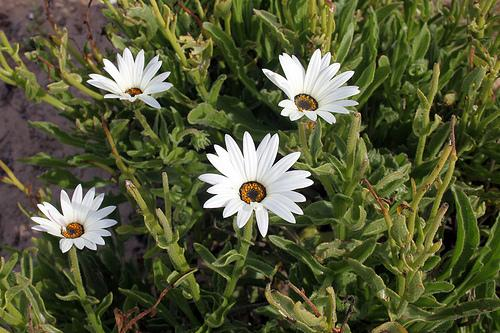daisy: (198, 131, 314, 241), (262, 47, 362, 128), (87, 48, 175, 112), (36, 187, 118, 252)
